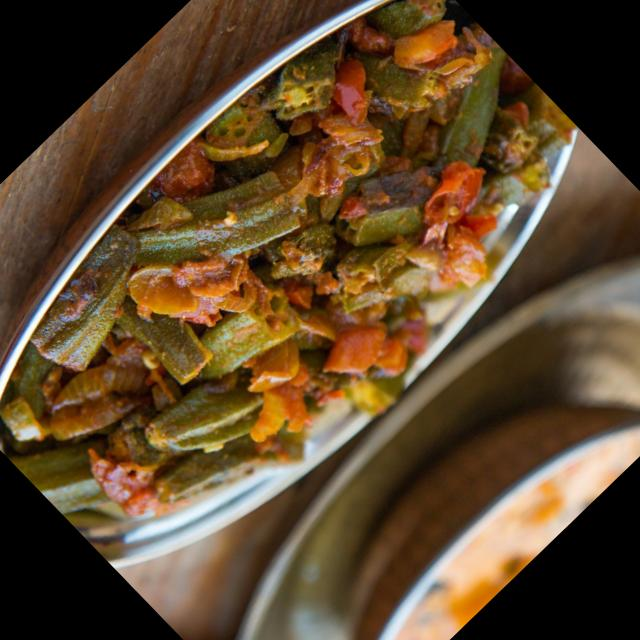BhindiMasala: (0, 0, 627, 622)
